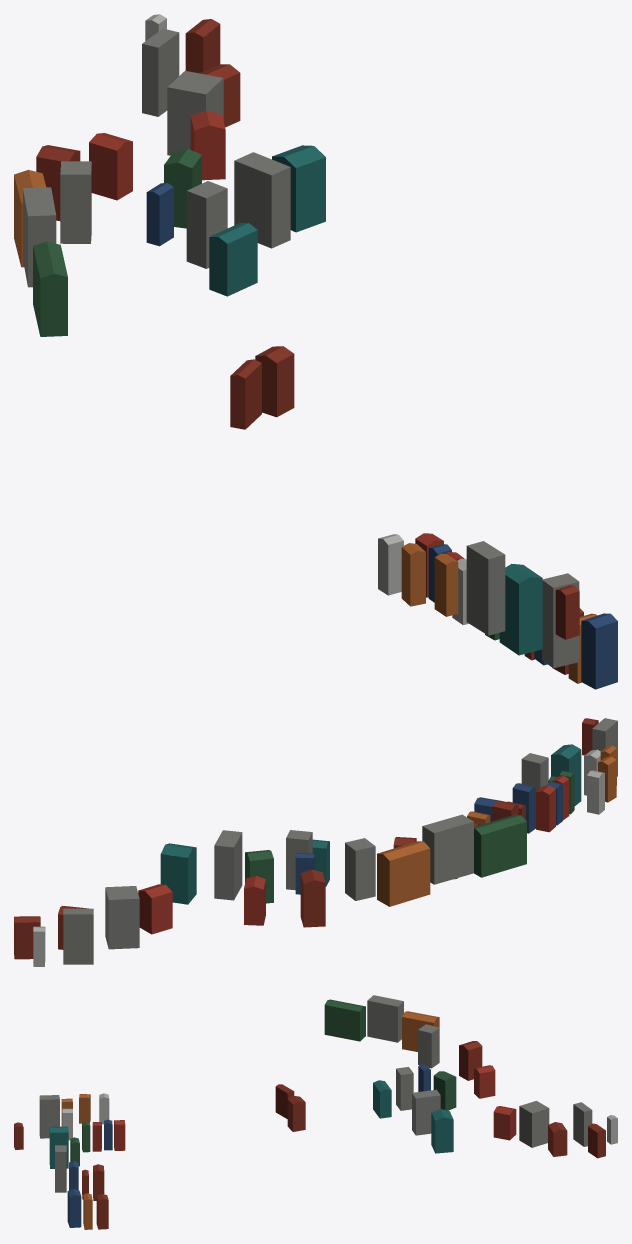
File: near-15-27366-14863.ce7b9b5f.glb
The picture shows the model from 3 angles, top to bottom: view 1: azimuth 30°, elevation 25°; view 2: azimuth 150°, elevation 25°; view 3: azimuth 270°, elevation 25°; orthographic projection. The views are drawn at different scales.
Bounding box in the file's own units: 152 × 106 × 353.
